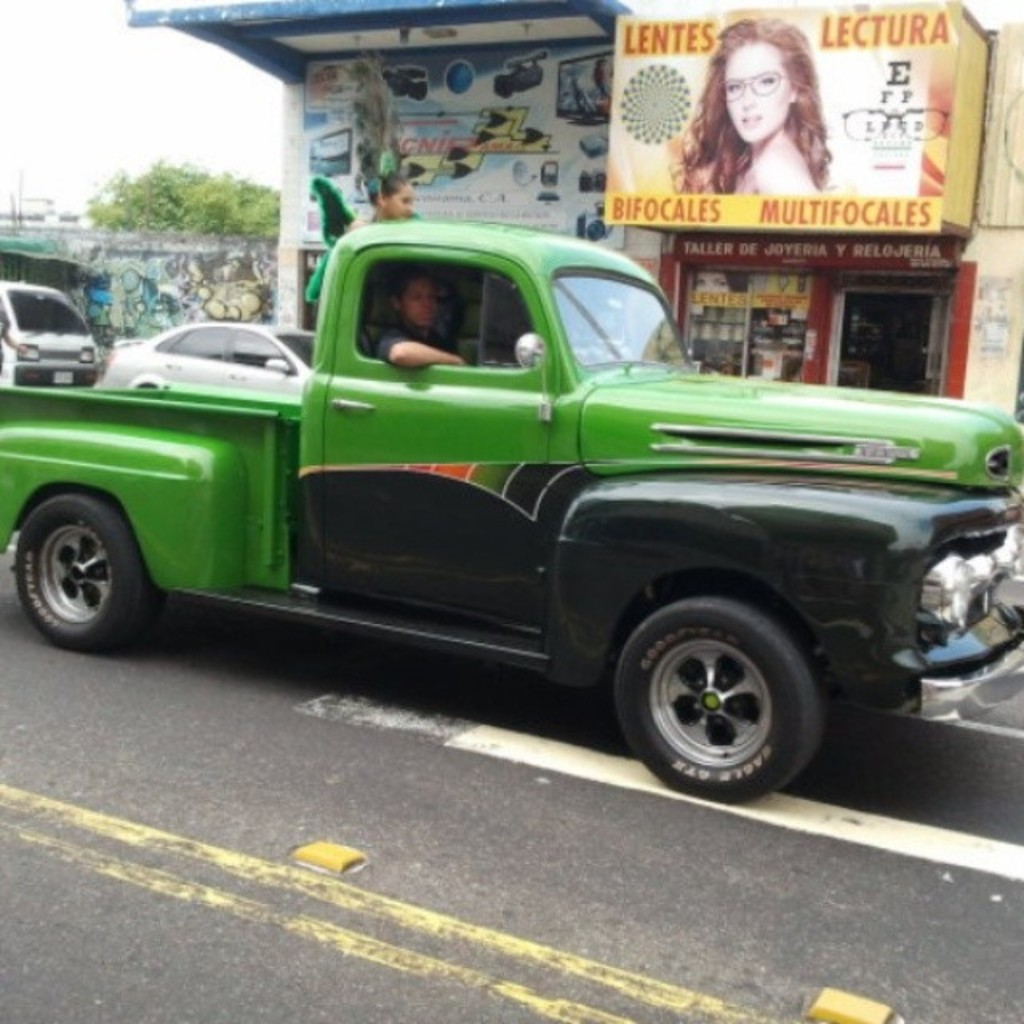Tree: (86, 157, 280, 235)
